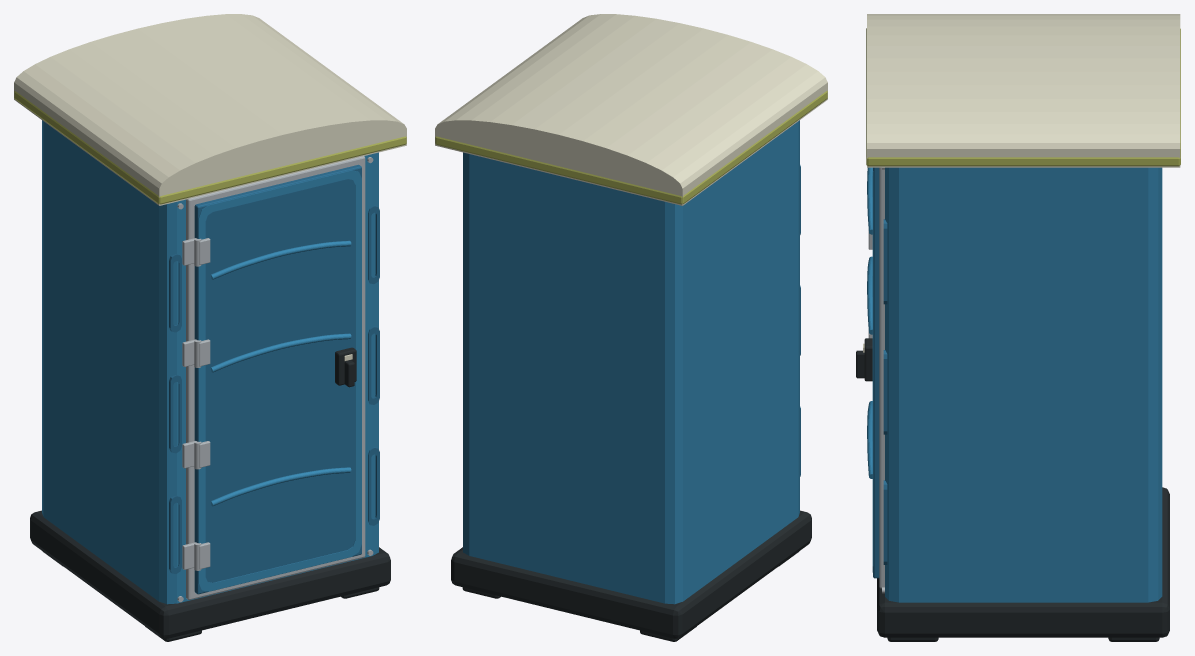
Rendered from full.fbx.
3 renders of one model, left to right at view 1: azimuth 30°, elevation 25°; view 2: azimuth 150°, elevation 25°; view 3: azimuth 270°, elevation 25°, orthographic. The views are drawn at different scales.
Parts seen in each view (by area): view 1: Closed exterior cabin, Closed door skin, Shallow arched roof, Low skid base, Rounded door reinforcing rim, Door jamb foundation, Roof edge apron, Curved door reinforcement 0.63, Curved door reinforcement 1.25, Curved door reinforcement 1.68, Side molded rhomboid -12, Side molded rhomboid -11 (+4 smaller); view 2: Closed exterior cabin, Shallow arched roof, Low skid base, Roof edge apron; view 3: Closed exterior cabin, Shallow arched roof, Low skid base, Roof edge apron, Closed door skin, Door jamb foundation, Rounded door reinforcing rim.
Part boxes in pixels (x1,y1,x2,y2): Closed exterior cabin: [42, 120, 378, 604]; Closed door skin: [194, 164, 361, 594]; Shallow arched roof: [14, 14, 406, 205]; Low skid base: [30, 510, 390, 638]; Rounded door reinforcing rim: [198, 170, 361, 591]; Door jamb foundation: [186, 156, 365, 599]; Roof edge apron: [14, 91, 406, 204]; Curved door reinforcement 0.63: [211, 467, 351, 506]; Curved door reinforcement 1.25: [210, 333, 351, 372]; Curved door reinforcement 1.68: [211, 240, 351, 279]; Side molded rhomboid -12: [169, 254, 181, 332]; Side molded rhomboid -11: [169, 375, 181, 453]; Closed exterior cabin: [463, 120, 799, 604]; Shallow arched roof: [435, 14, 827, 205]; Low skid base: [451, 510, 811, 638]; Roof edge apron: [435, 91, 827, 204]; Closed exterior cabin: [885, 167, 1162, 602]; Shallow arched roof: [867, 14, 1180, 167]; Low skid base: [877, 487, 1169, 637]; Roof edge apron: [866, 28, 1180, 166]; Closed door skin: [873, 167, 879, 578]; Door jamb foundation: [879, 167, 884, 588]; Rounded door reinforcing rim: [872, 168, 873, 572].
Size of the model in its own units: 121 by 227 by 126.
